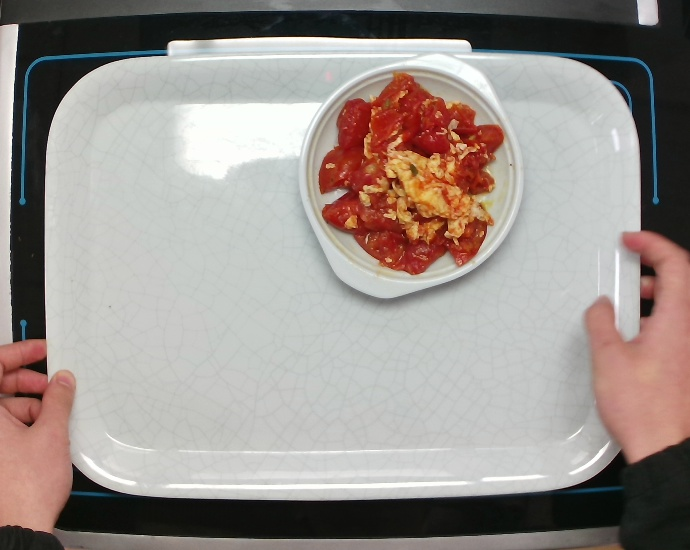JYsf-Shuang_Er_Pan: (295, 50, 526, 301)
